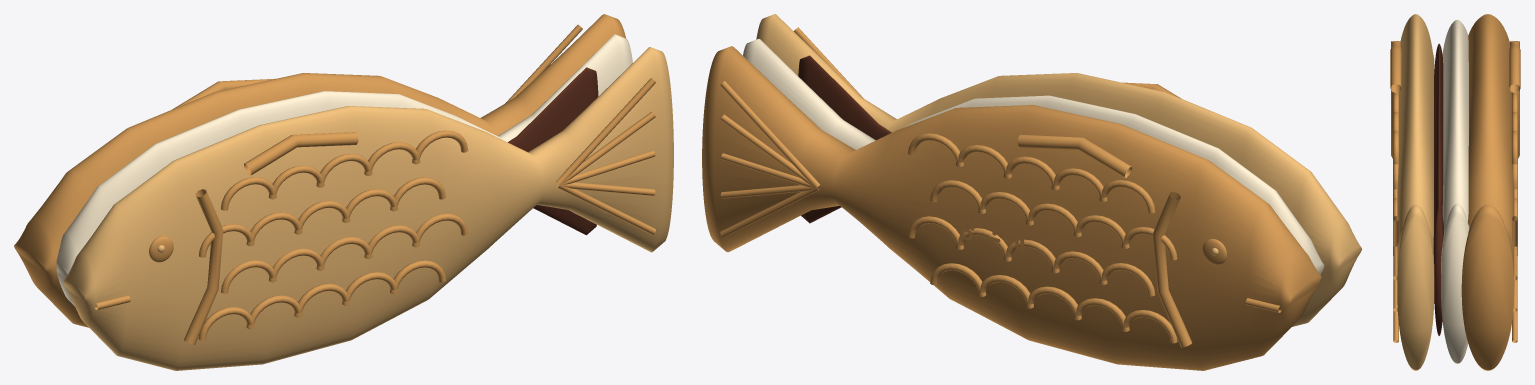
The model's file is samanco.glb.
The picture shows the model from 3 angles, left to right: view 1: azimuth 30°, elevation 25°; view 2: azimuth 150°, elevation 25°; view 3: azimuth 270°, elevation 25°; orthographic projection. The views are drawn at different scales.
Parts seen in each view (by area): view 1: Wafer_Front, Wafer_Back, Vanilla_Filling, Sweet_Redbean_Layer, Gill, Top_Fin, Tail_Ray.004, Tail_Ray, Tail_Ray.003, Tail_Ray.002, Tail_Ray.009, Tail_Ray.001 (+15 smaller); view 2: Wafer_Back, Wafer_Front, Vanilla_Filling, Sweet_Redbean_Layer, Gill.001, Top_Fin.001, Tail_Ray.009, Reverse_Stamp, Tail_Ray.005, Tail_Ray.008, Tail_Ray.007, Tail_Ray.006 (+13 smaller); view 3: Wafer_Back, Wafer_Front, Vanilla_Filling, Sweet_Redbean_Layer, Top_Fin.001, Top_Fin, Baked_Scale.039, Baked_Scale.019, Tail_Ray, Tail_Ray.005, Gill.001, Gill (+12 smaller).
Boxes of the visible parts, box(x1,y1,x2,y2) form: Wafer_Front: box(63, 47, 673, 370); Wafer_Back: box(14, 14, 626, 327); Vanilla_Filling: box(56, 34, 632, 305); Sweet_Redbean_Layer: box(508, 67, 598, 235); Gill: box(184, 189, 223, 344); Top_Fin: box(244, 132, 358, 175); Tail_Ray.004: box(556, 78, 655, 185); Tail_Ray: box(556, 185, 655, 234); Tail_Ray.003: box(558, 112, 655, 185); Tail_Ray.002: box(557, 150, 655, 186); Tail_Ray.009: box(505, 24, 582, 103); Tail_Ray.001: box(556, 182, 655, 195); Wafer_Back: box(702, 46, 1321, 370); Wafer_Front: box(756, 14, 1361, 326); Vanilla_Filling: box(743, 39, 1324, 274); Sweet_Redbean_Layer: box(798, 55, 891, 223); Gill.001: box(1153, 192, 1192, 347); Top_Fin.001: box(1017, 134, 1132, 177); Tail_Ray.009: box(720, 81, 819, 188); Reverse_Stamp: box(954, 212, 1023, 249); Tail_Ray.005: box(720, 188, 819, 237); Tail_Ray.008: box(720, 114, 815, 187); Tail_Ray.007: box(721, 153, 818, 189); Tail_Ray.006: box(720, 185, 818, 198); Wafer_Back: box(1461, 14, 1514, 370); Wafer_Front: box(1397, 14, 1434, 370); Vanilla_Filling: box(1441, 19, 1469, 364); Sweet_Redbean_Layer: box(1433, 43, 1443, 335); Top_Fin.001: box(1509, 44, 1520, 92); Top_Fin: box(1390, 44, 1401, 92); Baked_Scale.039: box(1511, 130, 1517, 164); Baked_Scale.019: box(1393, 130, 1399, 164); Tail_Ray: box(1393, 310, 1398, 342); Tail_Ray.005: box(1512, 310, 1517, 342); Gill.001: box(1510, 41, 1519, 158); Gill: box(1391, 41, 1400, 158).
Bounding box in the file's own units: 2.52 × 0.98 × 0.597.
